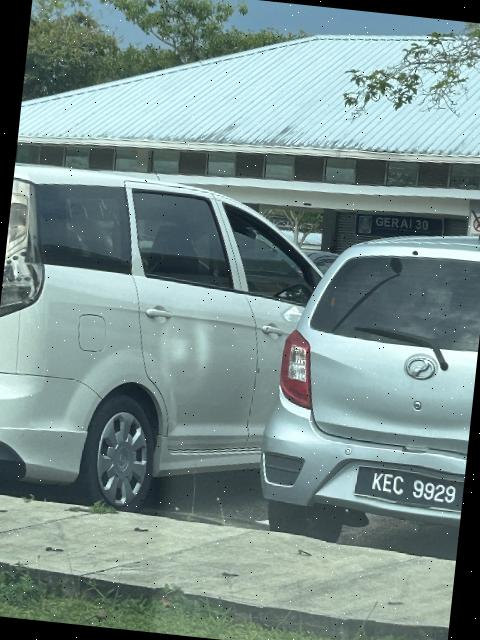License_Plate: (352, 465, 466, 517)
car: (1, 164, 372, 532), (258, 218, 480, 546)
